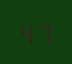four: (19, 20, 35, 44)
seven: (36, 19, 52, 43)
